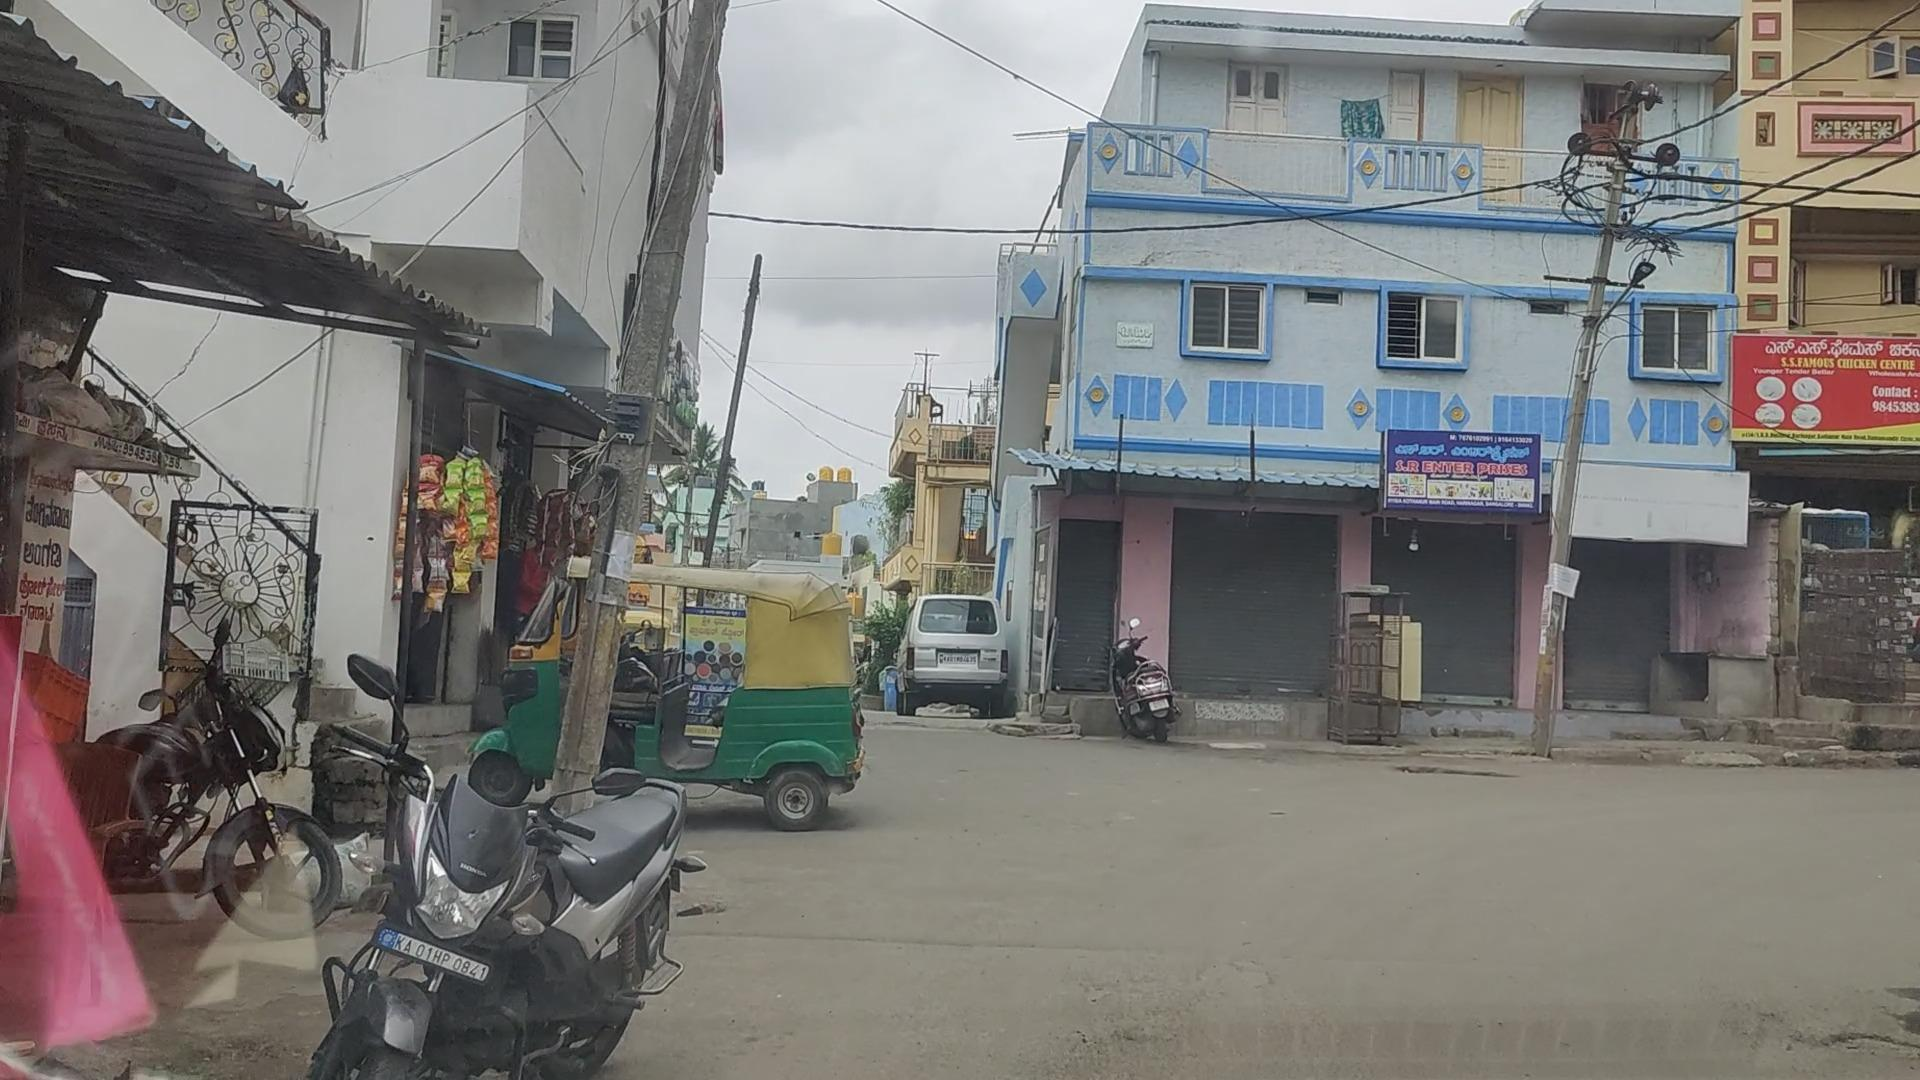RoadDamages: (1738, 957, 1920, 1080)
